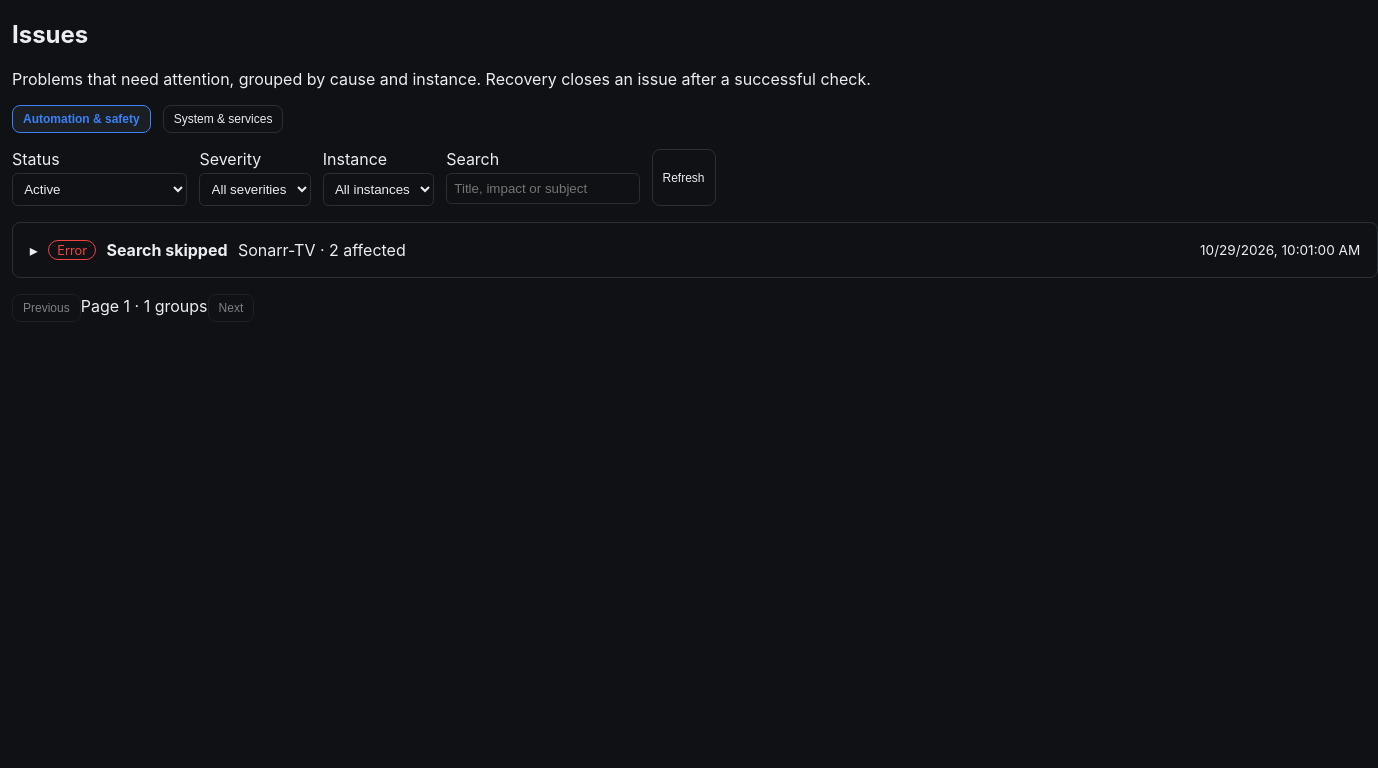
Issues view › groups issues, expands actionable details and switches inner tabs
Expected: the text "Sonarr-TV · 2 affected" is shown, [238,240,406,260]
Click the text "Search skipped".
click(167, 250)  # box [106,240,228,260]
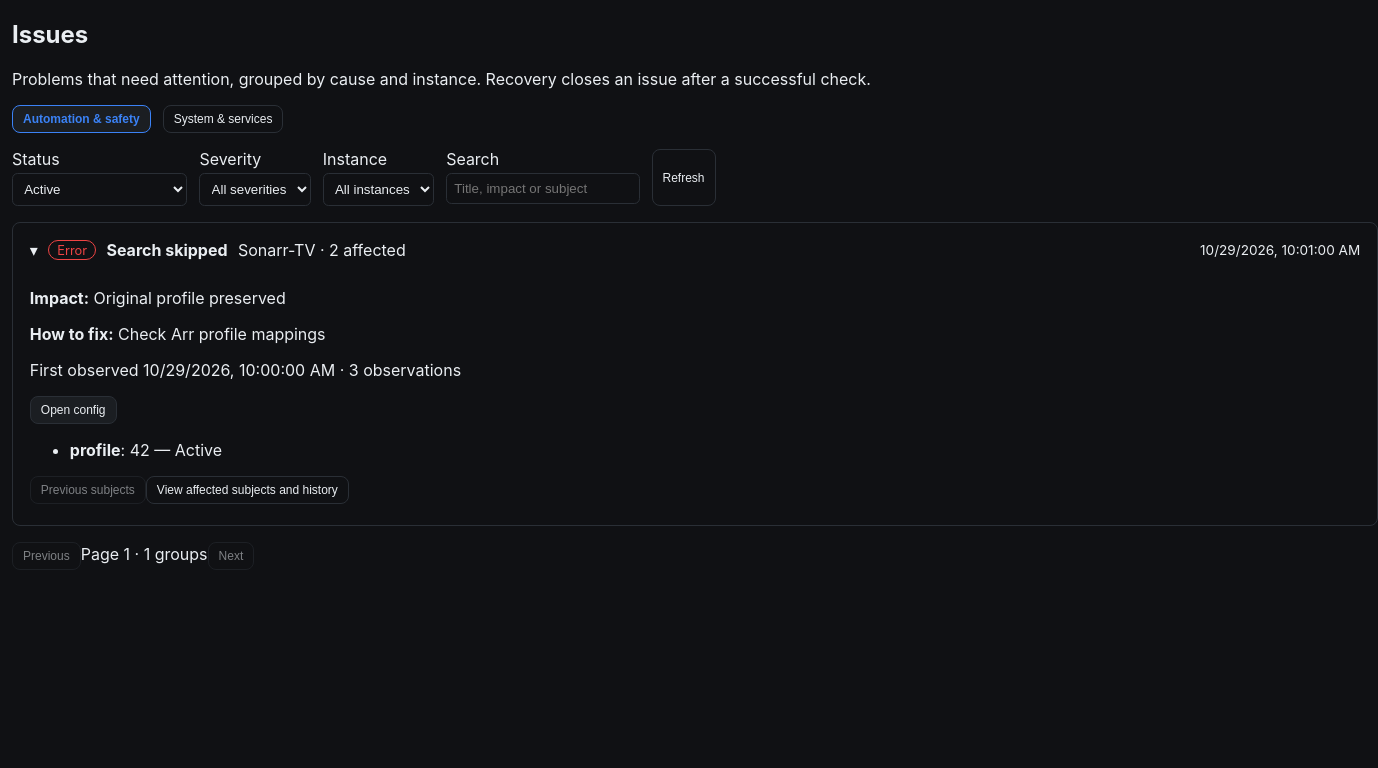
Expected: the text "Check Arr profile mappings" is shown, [118,324,326,344]
Expected: the button "Open config" is shown, [30,396,116,424]
Click the tab "System & services".
click(223, 119)  # box [163,105,283,133]
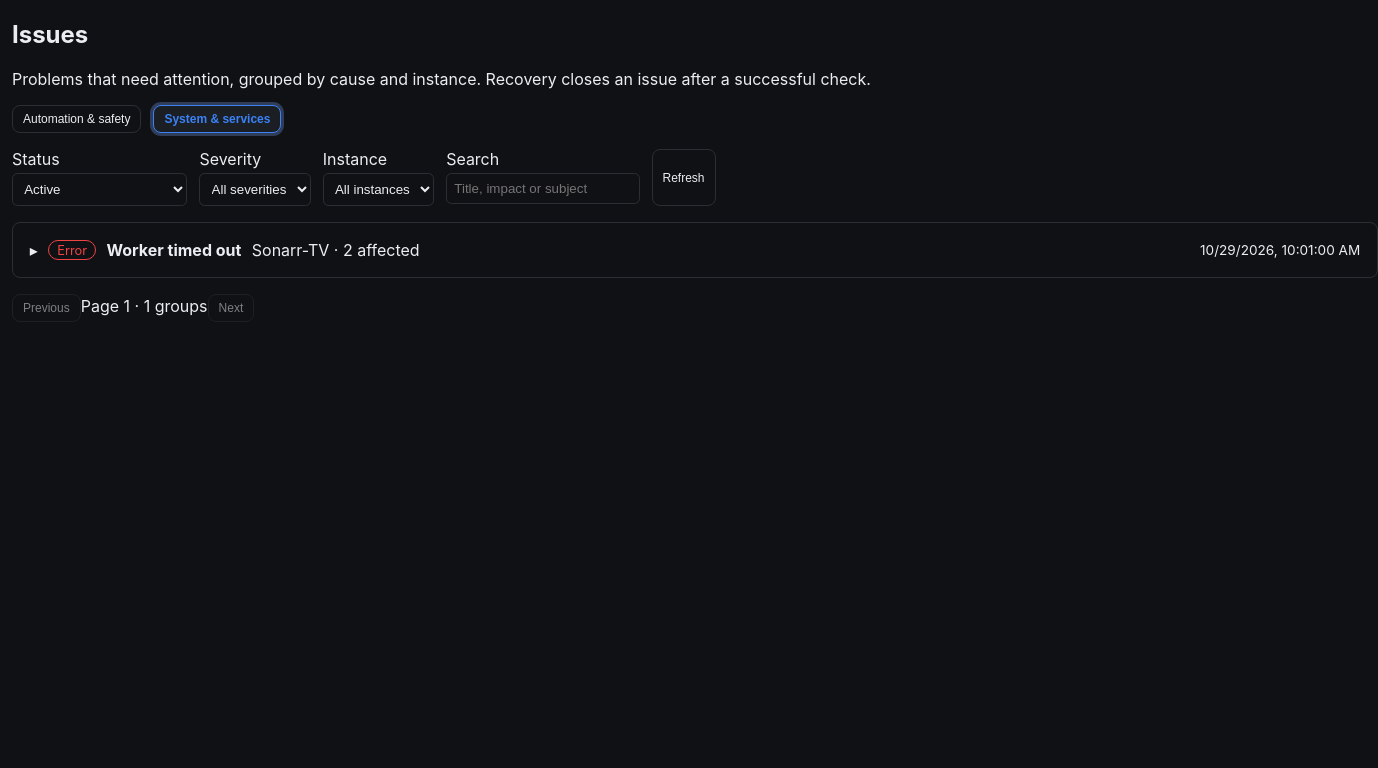
Expected: the text "Worker timed out" is shown, [106,240,241,260]
